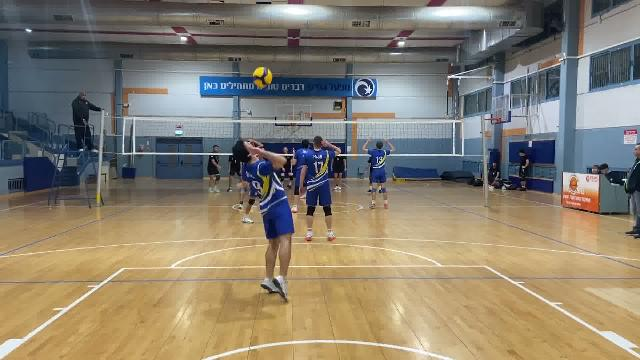ball: (248, 63, 276, 88)
